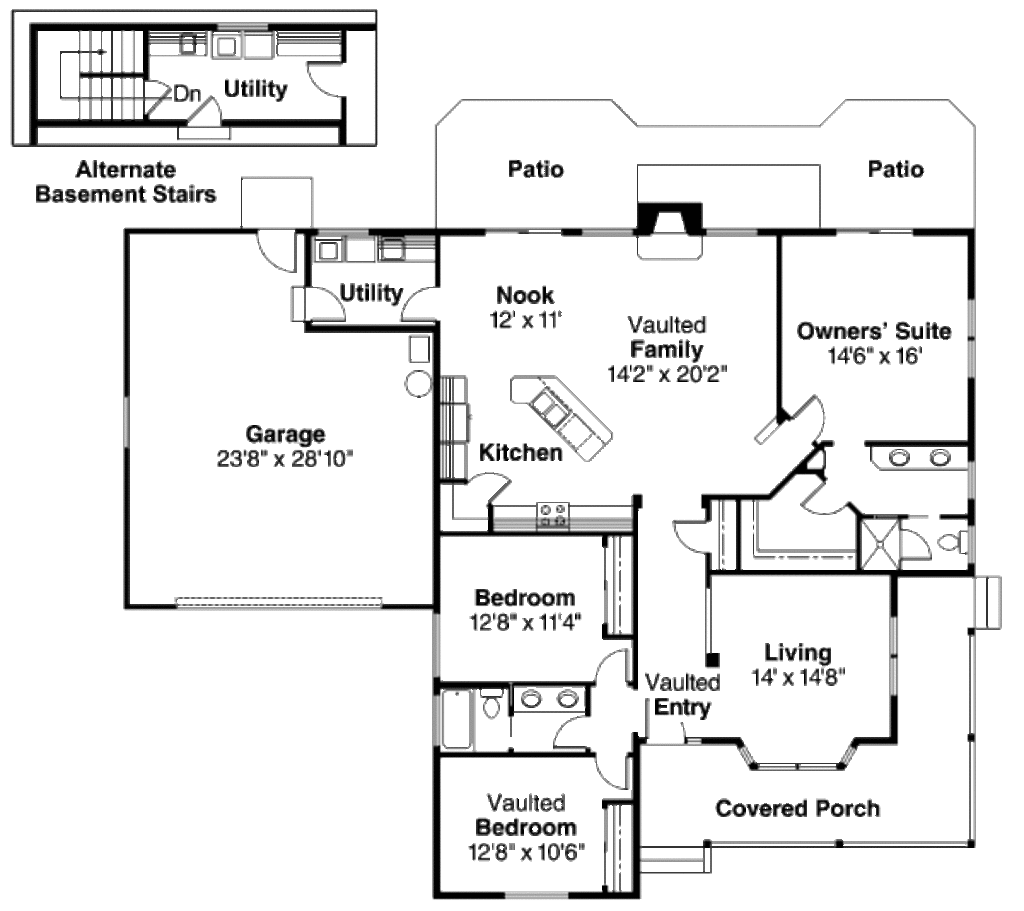door: (251, 221, 306, 279), (668, 508, 720, 563), (298, 49, 347, 107), (184, 90, 236, 143), (284, 283, 350, 324), (798, 474, 853, 520), (392, 282, 447, 327), (791, 387, 836, 442), (589, 753, 646, 793), (898, 520, 934, 566), (465, 467, 517, 498), (548, 717, 588, 751), (134, 73, 168, 111), (586, 645, 631, 673)
kitchen_bar: (506, 376, 633, 465)
large_sink: (934, 531, 979, 569), (475, 682, 505, 728)
small_sink: (872, 435, 969, 473), (508, 684, 591, 712)
stairs: (27, 20, 146, 114)
tub: (440, 690, 471, 752)
twin_sink: (522, 387, 582, 436)
window: (730, 736, 861, 774), (888, 603, 903, 696), (503, 887, 572, 901)
